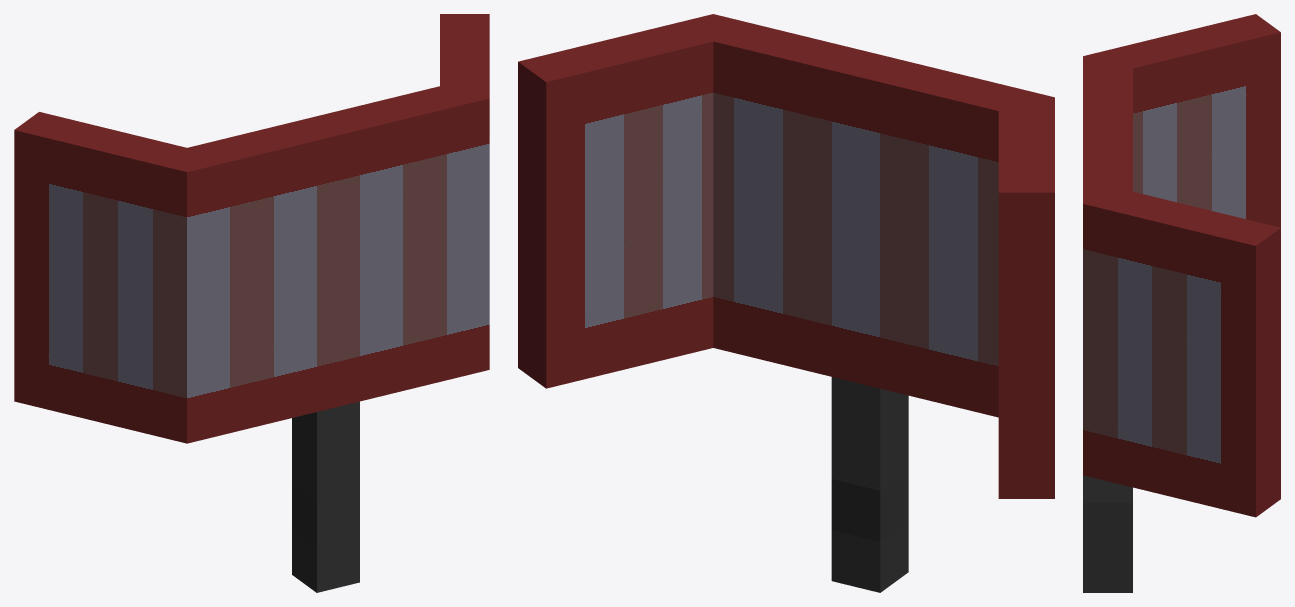
The model's file is radar.obj.
The picture shows the model from 3 angles, left to right: view 1: azimuth 30°, elevation 25°; view 2: azimuth 150°, elevation 25°; view 3: azimuth 270°, elevation 25°; orthographic projection. The views are drawn at different scales.
Visible parts, largest first — view 1: Radar_Cube.003; view 2: Radar_Cube.003; view 3: Radar_Cube.003.
Boxes of the visible parts, <box> form: Radar_Cube.003: <box>14,14,489,592</box>; Radar_Cube.003: <box>518,14,1054,592</box>; Radar_Cube.003: <box>1083,14,1280,592</box>.
Bounding box in the file's own units: 11 × 10 × 3.96.
